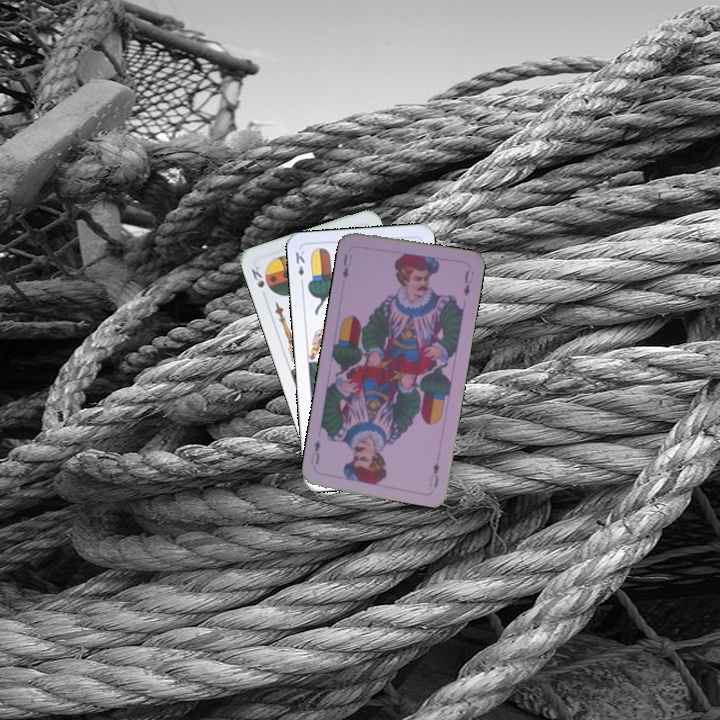EK: (291, 247, 307, 287)
EU: (425, 458, 442, 490), (338, 250, 355, 281)
SK: (247, 262, 267, 291)
